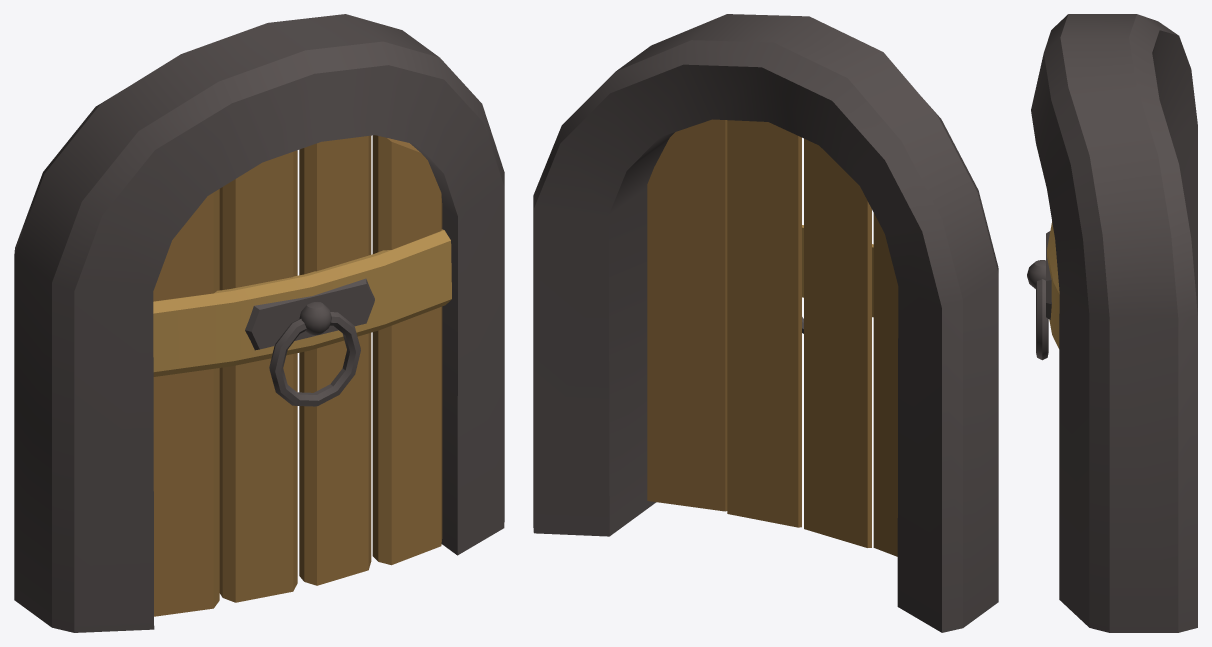
The model's file is Door.glb.
The picture shows the model from 3 angles, left to right: view 1: azimuth 30°, elevation 25°; view 2: azimuth 150°, elevation 25°; view 3: azimuth 270°, elevation 25°; orthographic projection. The views are drawn at different scales.
Parts seen in each view (by area): view 1: Door_Frame, Door; view 2: Door_Frame, Door; view 3: Door_Frame, Door.
Boxes of the visible parts, box(x1,y1,x2,y2) form: Door_Frame: box(14, 14, 504, 632); Door: box(153, 135, 451, 616); Door_Frame: box(533, 14, 998, 632); Door: box(647, 119, 898, 556); Door_Frame: box(1031, 14, 1197, 632); Door: box(1027, 221, 1059, 360).
Bounding box in the file's own units: 3.71 × 4.24 × 1.33.
